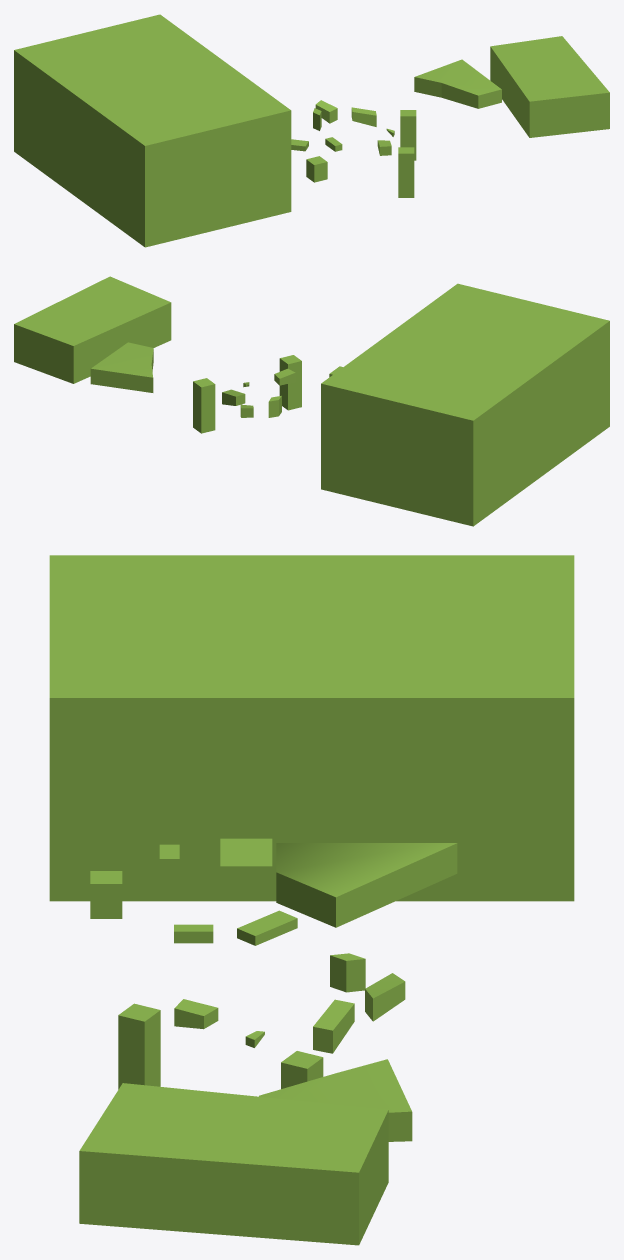
The model's file is sentwall_3_design.fbx.
3 renders of one model, top to bottom at view 1: azimuth 30°, elevation 25°; view 2: azimuth 150°, elevation 25°; view 3: azimuth 270°, elevation 25°, orthographic. The views are drawn at different scales.
Parts seen in each view (by area): view 1: rain_blocker:weatherocclusion; view 2: rain_blocker:weatherocclusion; view 3: rain_blocker:weatherocclusion.
Boxes of the visible parts, left/top/right/bottom form: rain_blocker:weatherocclusion: left=14, top=14, right=609, bottom=247; rain_blocker:weatherocclusion: left=14, top=276, right=609, bottom=526; rain_blocker:weatherocclusion: left=49, top=555, right=574, bottom=1245.
Bounding box in the file's own units: 13154 × 28652 × 7597.
